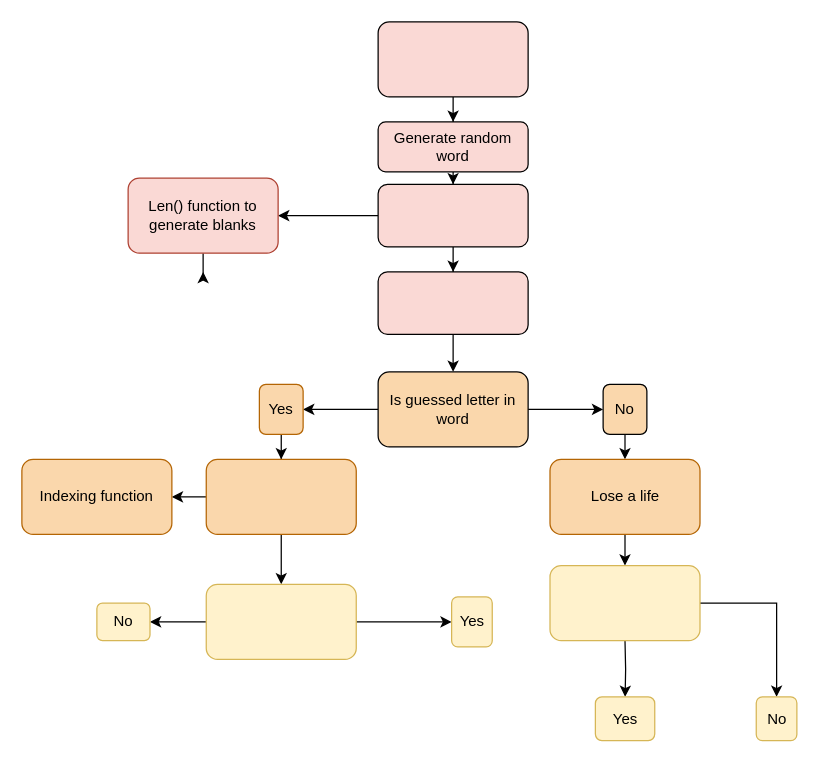
The diagram is 819 pixels wide and 763 high, and some of its shapes have lost their labels. Here are the shapes that lost their labels. From the top down, the centre of each, then its label:
the point at 452,59: Start
the point at 452,215: Generate as many blanks as letter in word
the point at 452,302: Create input statement asking user to choose a letter
the point at 280,496: Replace blank with a letter
the point at 280,621: Are all of the blanks filled?
the point at 624,602: Have they run out of lives?
